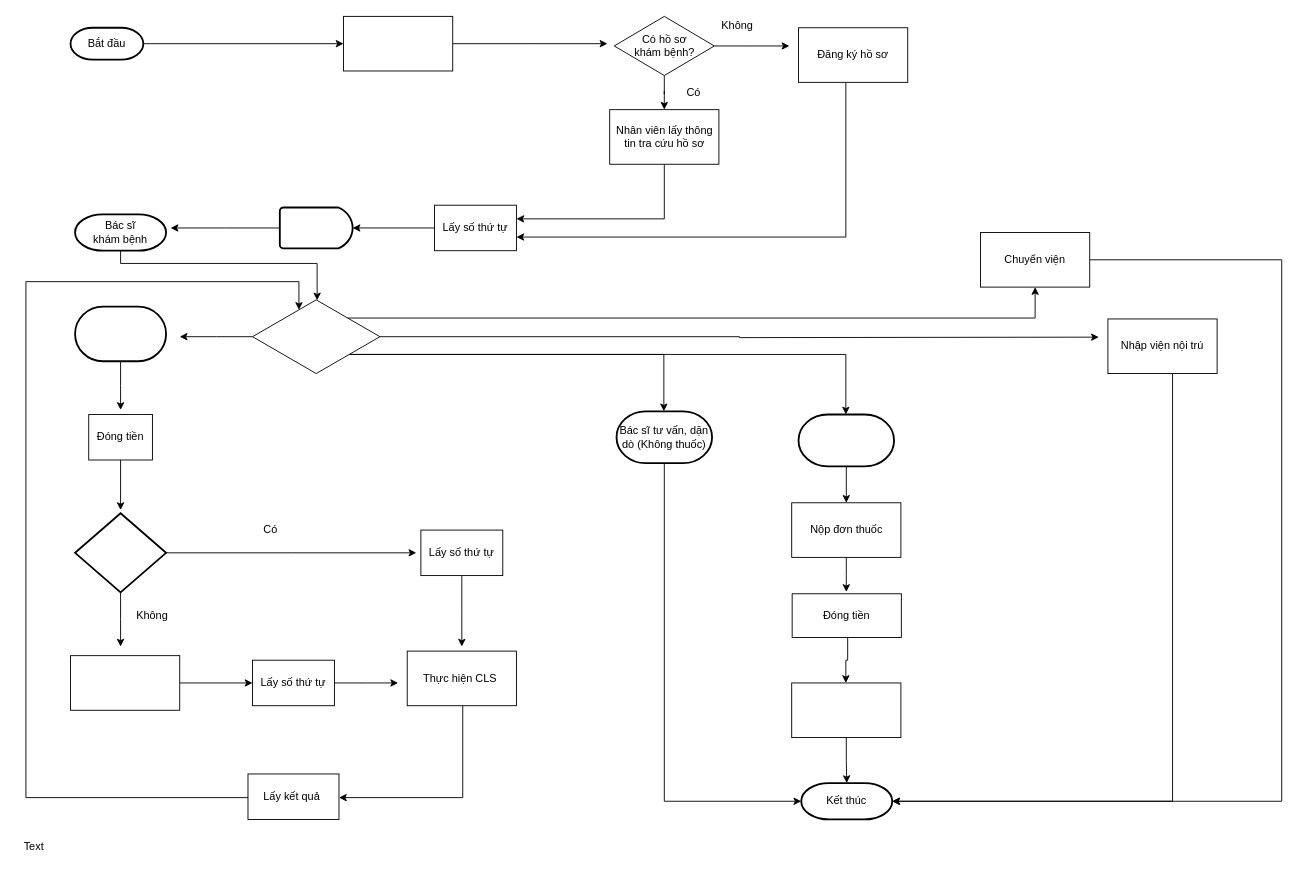
This 1305x871 diagram has some shape labels left out. Each missing label, with the box of its shape:
Bác sĩ chuẩn đoán hoặc kết luận: (252, 299, 380, 374)
Bác sĩ chỉ định cận lâm sàng: (74, 305, 167, 362)
Bác sĩ tư vấn và kê đơn thuốc: (797, 413, 895, 467)
Chờ khám bệnh: (278, 206, 353, 249)
CLS cấp số tại quầy đóng tiền?: (74, 512, 167, 593)
Lấy thuốc: (791, 682, 901, 738)
Tới quầy tiếp nhận ở tường phòng CLS: (70, 655, 180, 710)
Đăng ký khám bệnh: (343, 15, 453, 71)
